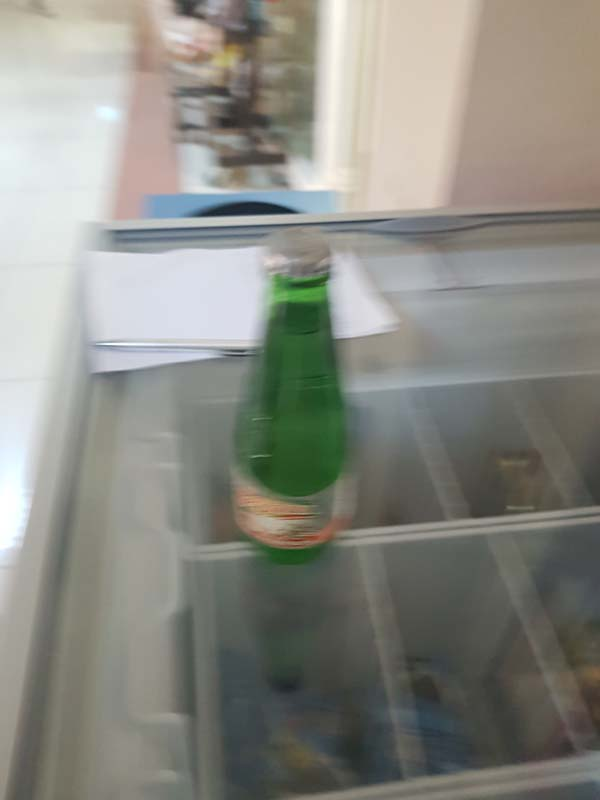beypazarimadensuyu: (228, 220, 367, 568)
